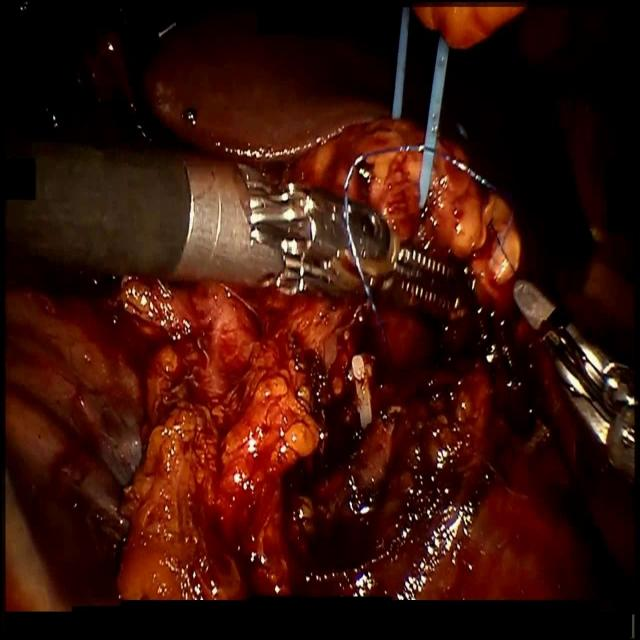surgical-area: (3, 0, 640, 612)
surgical-tool: (8, 136, 396, 306), (511, 275, 640, 490)
